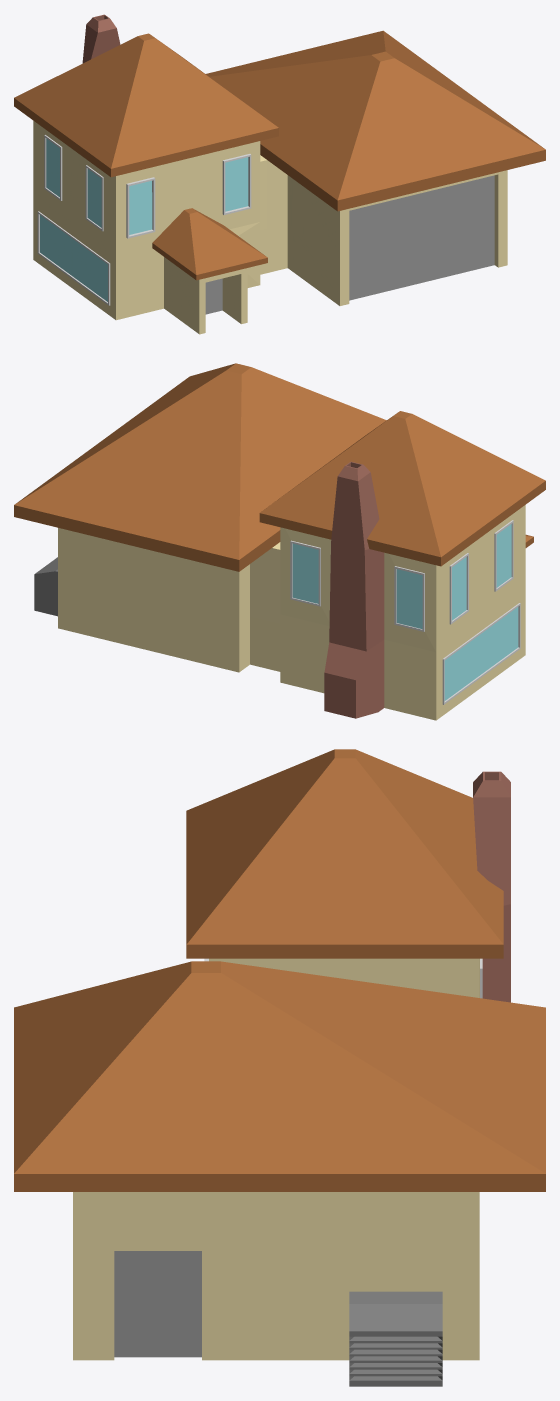
Rendered from house.fbx.
3 views of the same model, one above another, from view 1: azimuth 30°, elevation 25°; view 2: azimuth 150°, elevation 25°; view 3: azimuth 270°, elevation 25° (orthographic). The views are drawn at different scales.
Visible parts, largest first — view 1: Cube; view 2: Cube; view 3: Cube.
Boxes of the visible parts, left/top/right/bottom form: Cube: left=14, top=14, right=545, bottom=334; Cube: left=14, top=363, right=545, bottom=720; Cube: left=14, top=749, right=545, bottom=1386.
Size of the model in its own units: 1642 by 934 by 1171.
